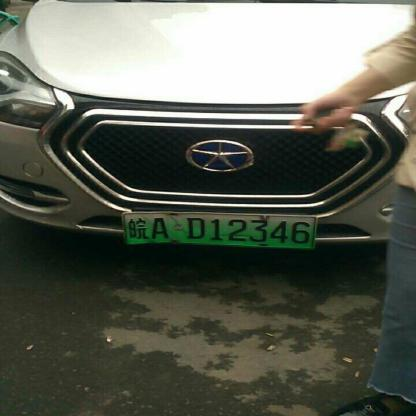lp: (121, 213, 317, 250)
